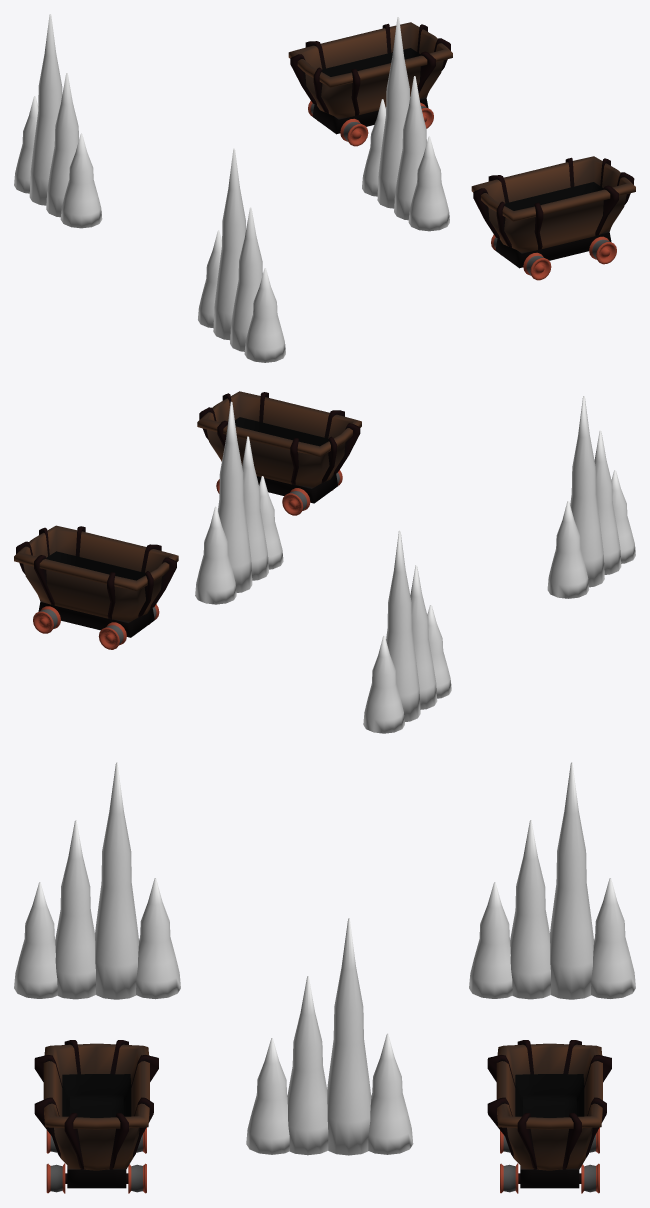
File: Parte 3 obstáculos 2.fbx
The picture shows the model from 3 angles, top to bottom: view 1: azimuth 30°, elevation 25°; view 2: azimuth 150°, elevation 25°; view 3: azimuth 270°, elevation 25°; orthographic projection. The views are drawn at different scales.
Visible parts, largest first — view 1: ESTALACTITA BUENA.001, ESTALACTITA BUENA.002, ESTALACTITA BUENA.003, MineCart.011, MineCart.002, MineCart.012, MineCart.003, MineCart.010, MineCart.009, MineCart.013, MineCart.001, MineCart.008 (+1 smaller); view 2: ESTALACTITA BUENA.002, ESTALACTITA BUENA.001, ESTALACTITA BUENA.003, MineCart.002, MineCart.011, MineCart.003, MineCart.012, MineCart, MineCart.001, MineCart.008, MineCart.013, MineCart.009 (+1 smaller); view 3: ESTALACTITA BUENA.003, ESTALACTITA BUENA.001, ESTALACTITA BUENA.002, MineCart.011, MineCart.002, MineCart.013, MineCart.008, MineCart.012, MineCart.003, MineCart.010, MineCart.001, MineCart (+1 smaller).
Part boxes in pixels (x1,y1,x2,y2): ESTALACTITA BUENA.001: (14,14,102,228); ESTALACTITA BUENA.002: (362,17,449,231); ESTALACTITA BUENA.003: (198,148,285,362); MineCart.011: (471,156,635,253); MineCart.002: (288,22,452,119); MineCart.012: (473,157,634,249); MineCart.003: (290,23,450,115); MineCart.010: (491,234,616,280); MineCart.009: (495,232,611,268); MineCart.013: (505,182,603,210); MineCart.001: (308,100,433,146); MineCart.008: (322,48,420,76); ESTALACTITA BUENA.002: (195,401,283,604); ESTALACTITA BUENA.001: (363,530,451,733); ESTALACTITA BUENA.003: (547,396,635,598); MineCart.002: (14,525,178,623); MineCart.011: (197,391,361,488); MineCart.003: (16,526,176,619); MineCart.012: (199,392,360,485); MineCart: (38,602,154,637); MineCart.001: (33,604,159,649); MineCart.008: (46,551,145,580); MineCart.013: (235,417,328,446); MineCart.009: (256,474,338,503); ESTALACTITA BUENA.003: (14,762,180,999); ESTALACTITA BUENA.001: (469,762,635,999); ESTALACTITA BUENA.002: (246,918,413,1155); MineCart.011: (43,1043,149,1170); MineCart.002: (496,1043,602,1170); MineCart.013: (62,1074,131,1117); MineCart.008: (515,1074,584,1117); MineCart.012: (34,1040,158,1169); MineCart.003: (487,1040,611,1169); MineCart.010: (46,1127,146,1193); MineCart.001: (500,1127,599,1193); MineCart: (518,1169,581,1188).
Size of the model in its own units: 1032 by 454 by 1130.
